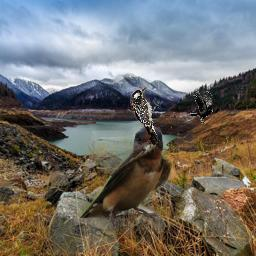Crow: (190, 89, 213, 125)
Swallow: (79, 127, 171, 231)
Woodpecker: (128, 85, 167, 145)
